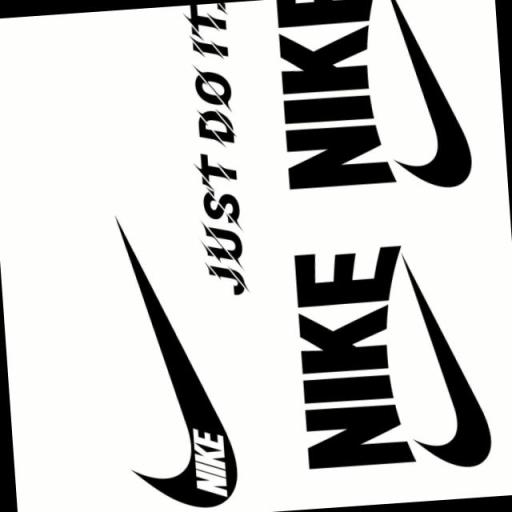Nike: (266, 0, 398, 194), (403, 252, 492, 470)
